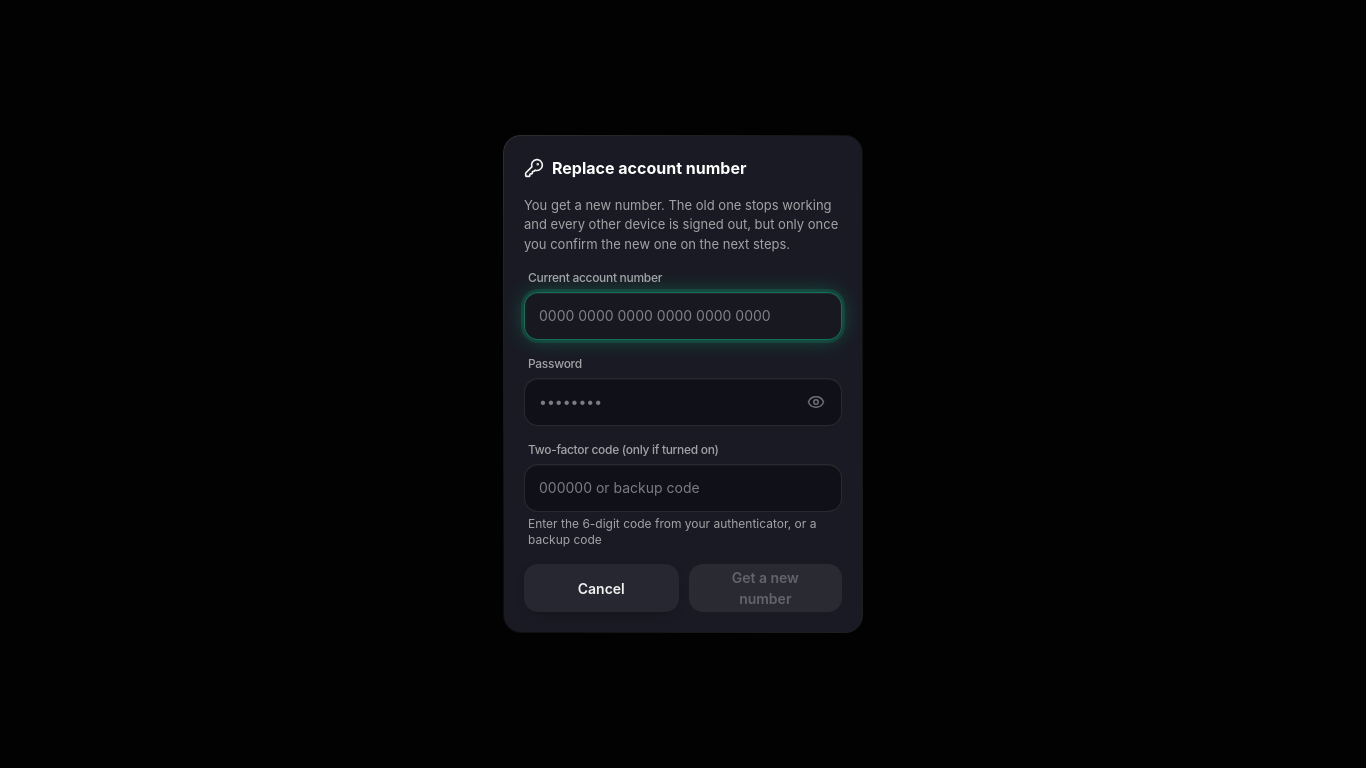
replacing the number › sends the password and the two-factor code when the account has them
This screenshot has width=1366, height=768.
Type "111122223333444455556666" into the field labelled "Current account number" at (683, 316), box [539,306,827,326]
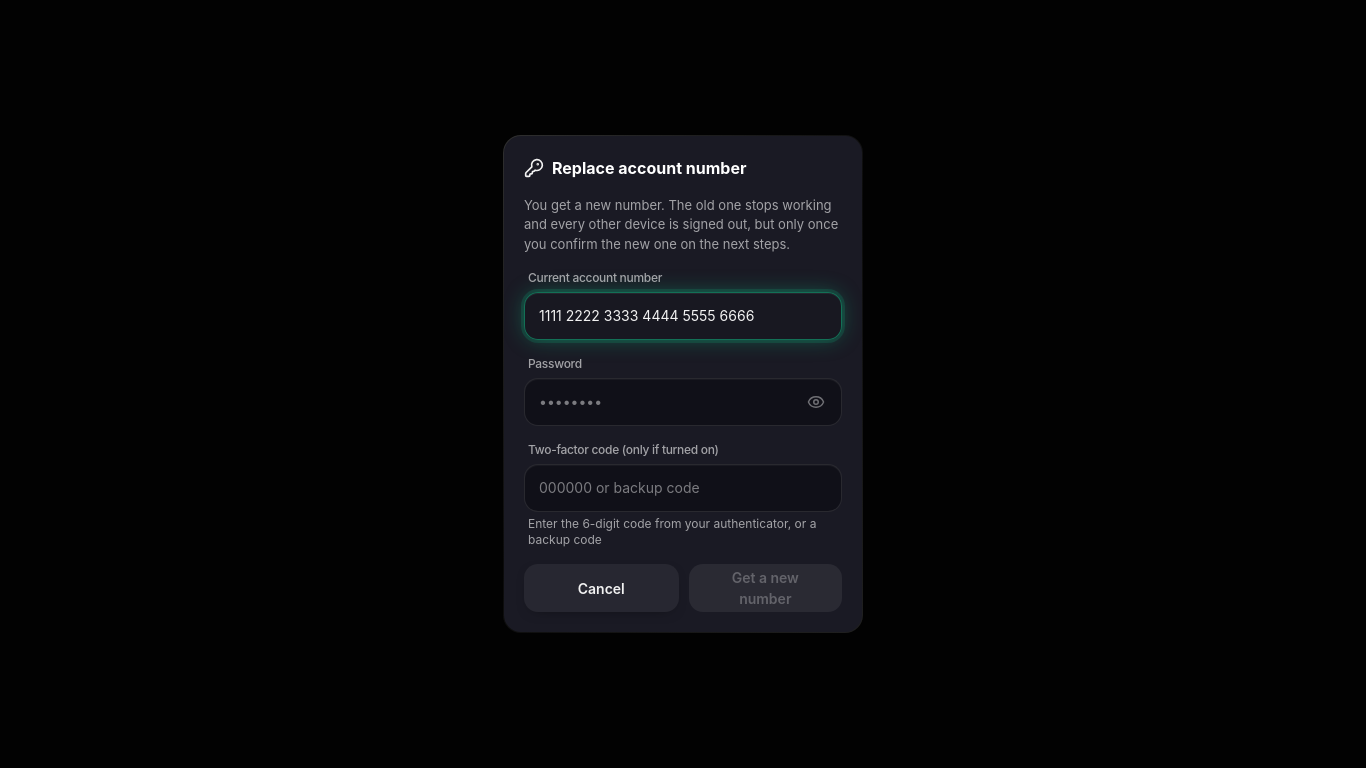
Check: the button "Get a new number" is disabled, box [689,564,842,612]
Type "correct horse" into the password field labelled "Password" at (667, 402), box [539,392,795,412]
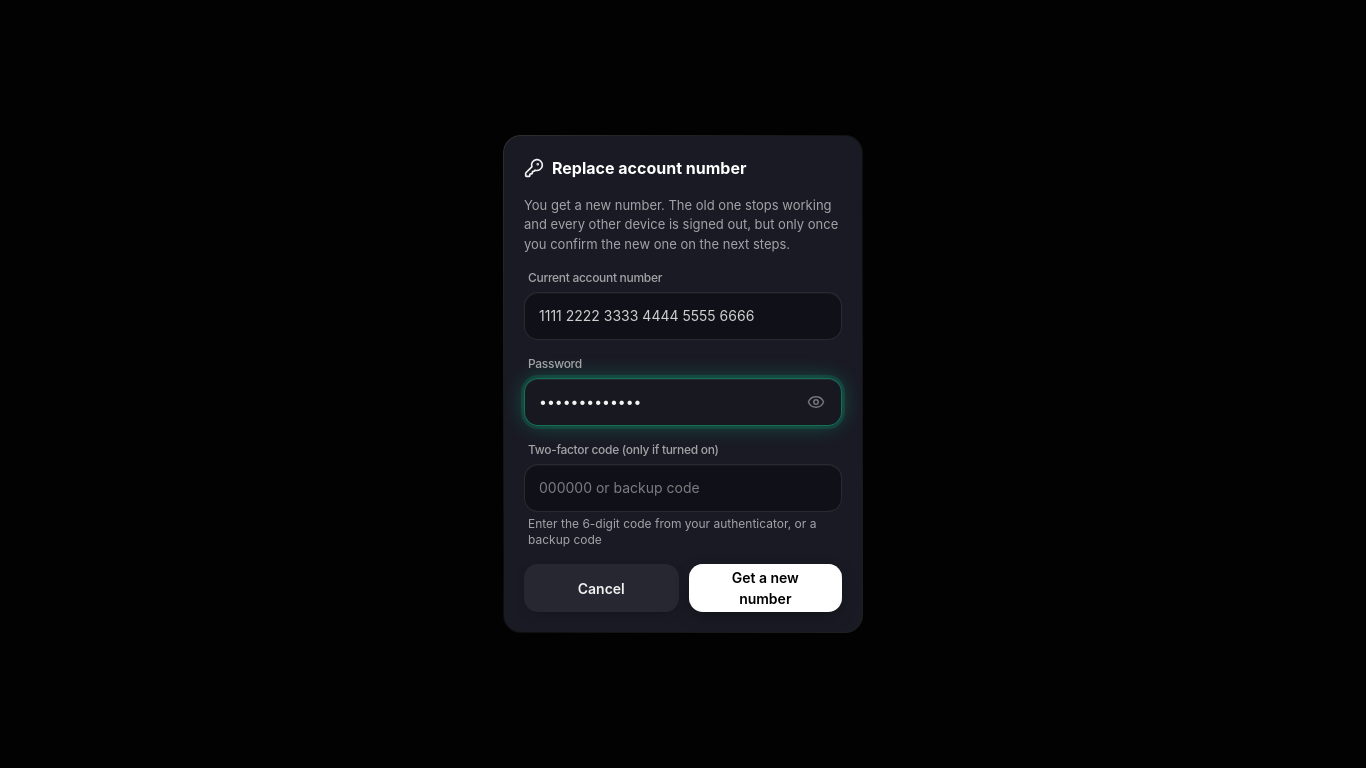
Type "123456" into the field labelled "Two-factor code (only if turned on)" at (683, 488), box [539,478,827,498]
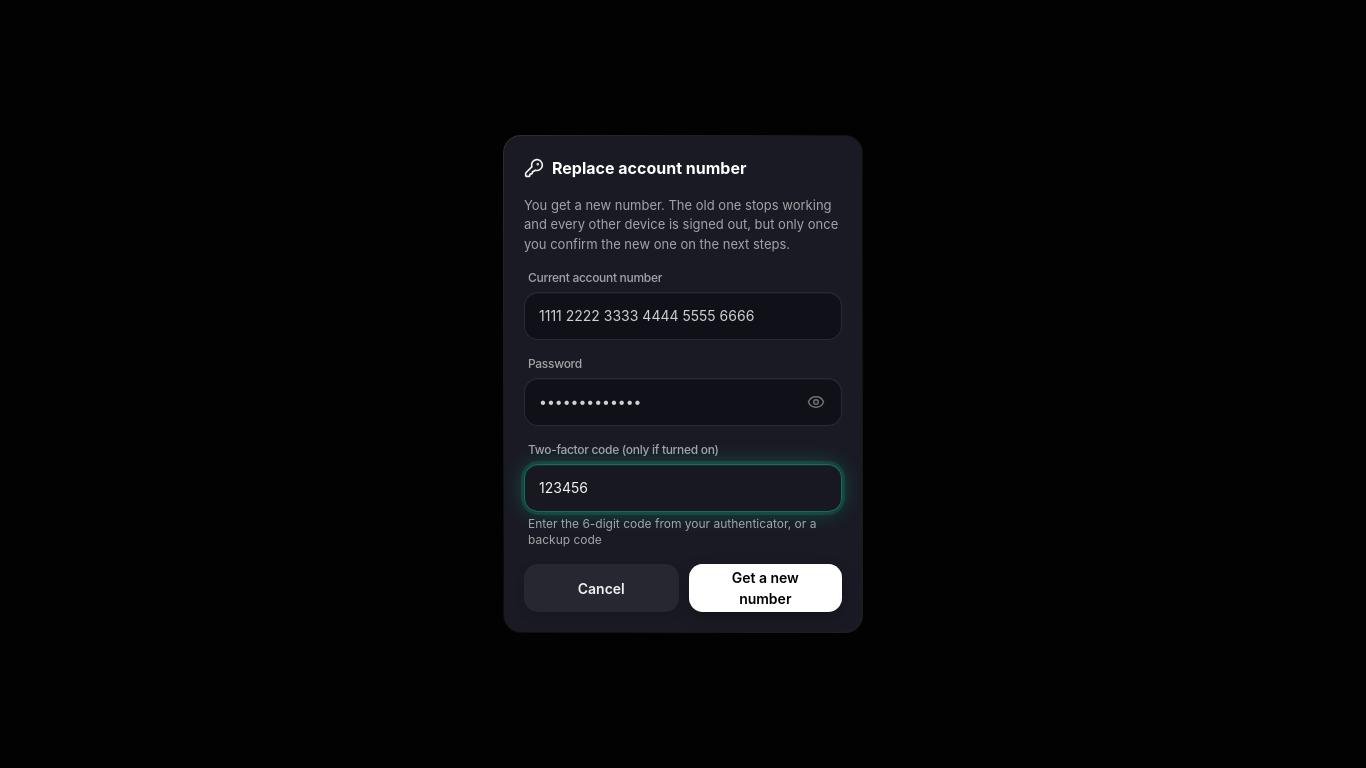
Click the button "Get a new number" at (765, 588), box [689,564,842,612]
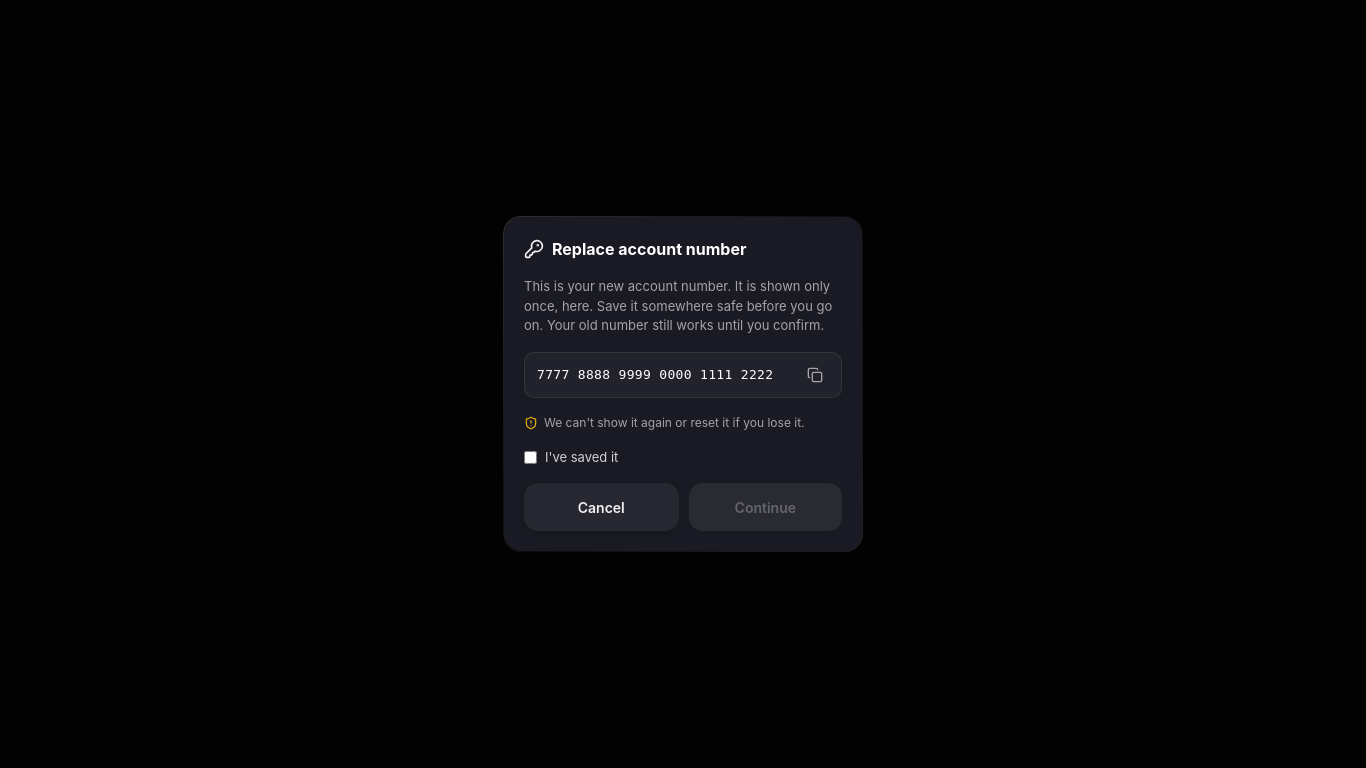
Check: the text "7777 8888 9999 0000 1111 2222" is shown, box [537,365,793,384]
